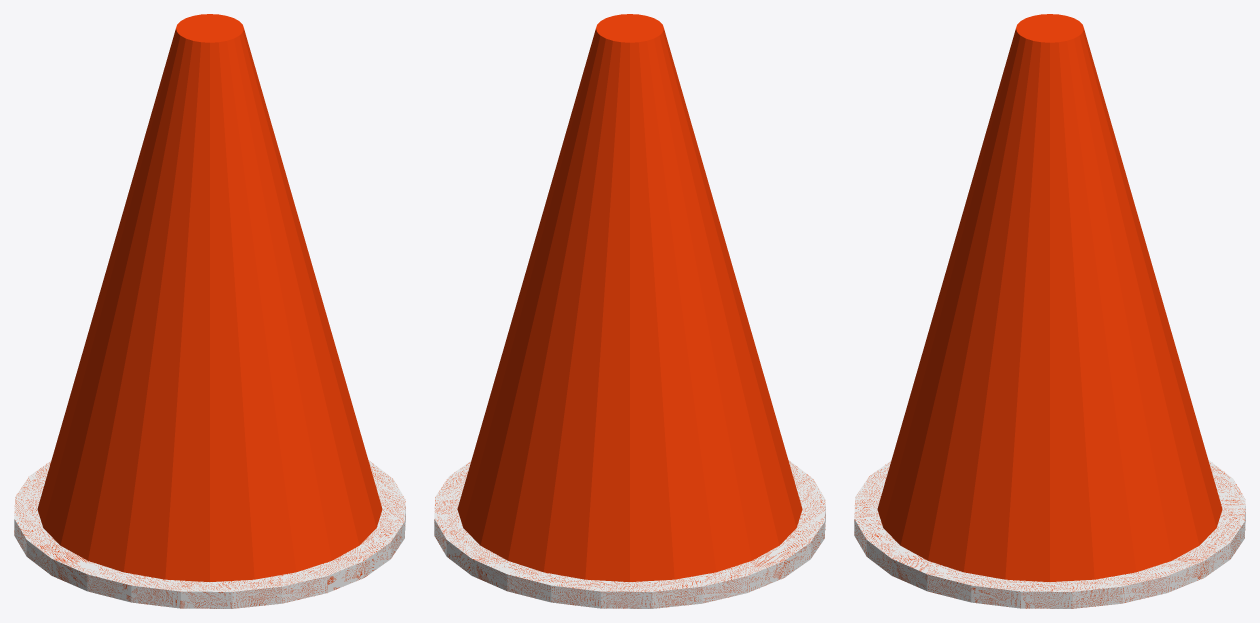
The model's file is DriverDeck.dae.
3 renders of one model, left to right at view 1: azimuth 30°, elevation 25°; view 2: azimuth 150°, elevation 25°; view 3: azimuth 270°, elevation 25°, orthographic.
Parts seen in each view (by area): view 1: TLEU-DOR__Traffic_Cone (×2); view 2: TLEU-DOR__Traffic_Cone (×2); view 3: TLEU-DOR__Traffic_Cone (×2).
Boxes of the visible parts, <box> form: TLEU-DOR__Traffic_Cone (×2): <box>14,14,405,608</box>; TLEU-DOR__Traffic_Cone (×2): <box>434,14,825,608</box>; TLEU-DOR__Traffic_Cone (×2): <box>854,14,1245,608</box>.
Size of the model in its own units: 13.13 by 13.13 by 18.43.
